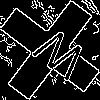W: (25, 25, 90, 91)
